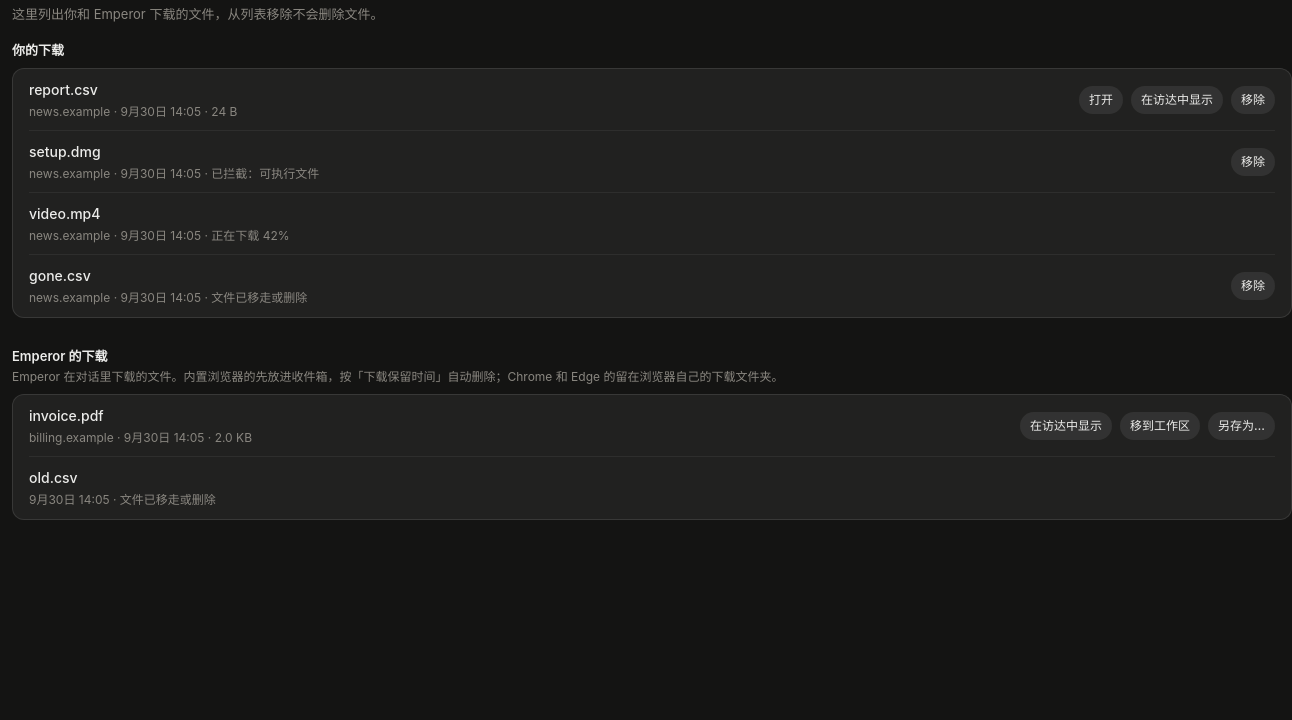
it: 下载历史记录 › says why an action failed
What coordinates should you click on to do the following:
click the button "打开"
I would click on:
 (1101, 100)
Its box is [1079,86,1123,114].
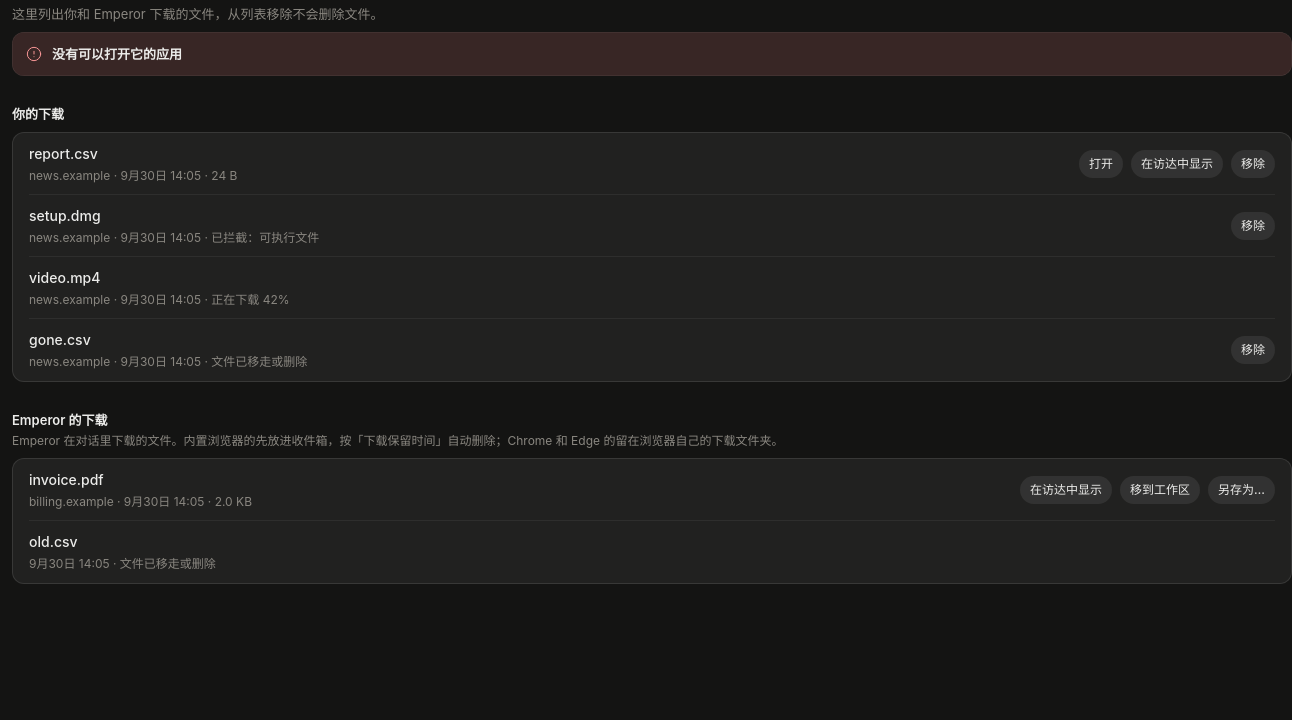
Expected: the message with class "ds-notice" reads "没有可以打开它的应用", [52,46,182,62]
